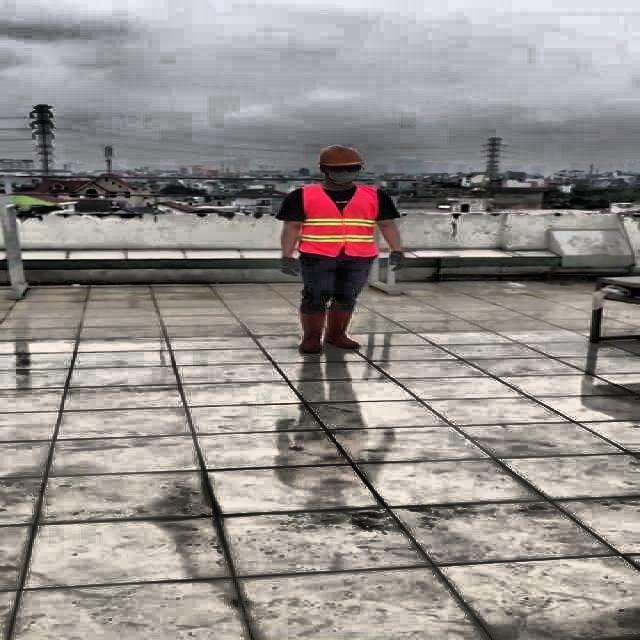safety_helmet: (316, 145, 366, 167)
safety_jacket: (296, 185, 380, 256)
